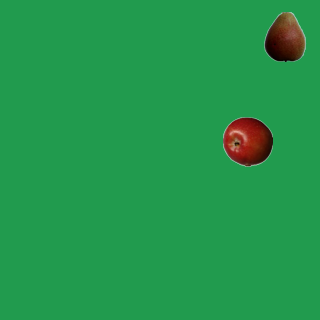Apple Braeburn: (222, 116, 272, 166)
Pear Forelle: (259, 11, 309, 61)
